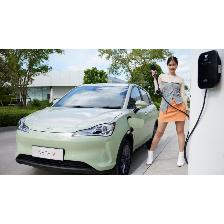EV: (16, 83, 158, 176)
